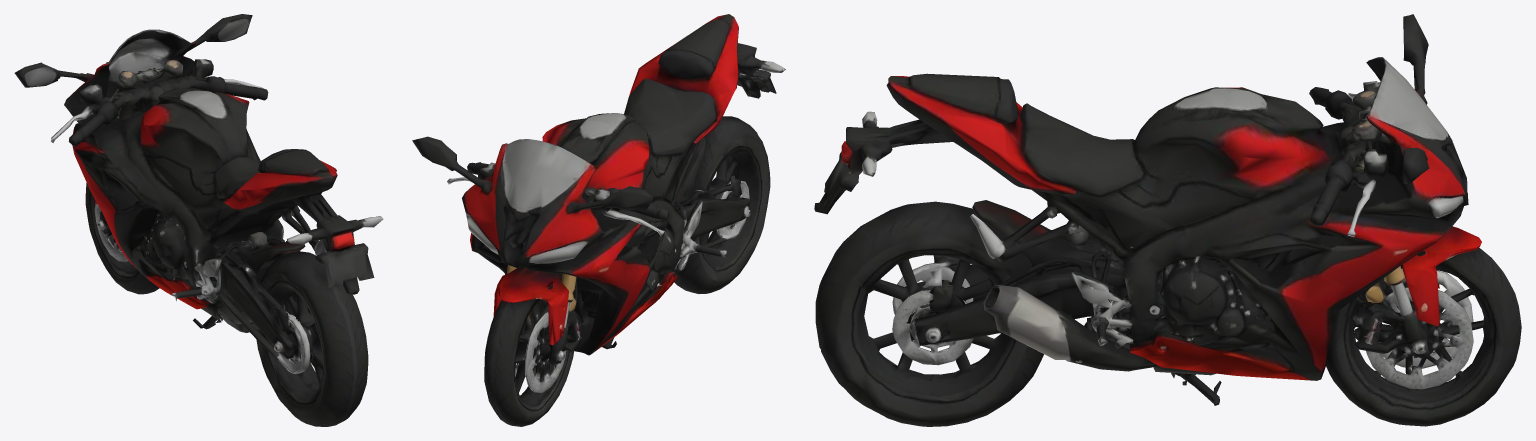
The model's file is bike-hf.glb.
3 renders of one model, left to right at view 1: azimuth 30°, elevation 25°; view 2: azimuth 150°, elevation 25°; view 3: azimuth 270°, elevation 25°, orthographic. The views are drawn at different scales.
Parts seen in each view (by area): view 1: tripo_node_e2e66edc-f3bd-430e-8c2e-db024297c3db; view 2: tripo_node_e2e66edc-f3bd-430e-8c2e-db024297c3db; view 3: tripo_node_e2e66edc-f3bd-430e-8c2e-db024297c3db.
Part boxes in pixels (x1=…): tripo_node_e2e66edc-f3bd-430e-8c2e-db024297c3db: x1=14, y1=14, x2=383, y2=426; tripo_node_e2e66edc-f3bd-430e-8c2e-db024297c3db: x1=412, y1=14, x2=785, y2=426; tripo_node_e2e66edc-f3bd-430e-8c2e-db024297c3db: x1=814, y1=14, x2=1521, y2=426.
Size of the model in its own units: 0.5236 by 0.5607 by 1.
Materials: 1 (1 with a texture image).
